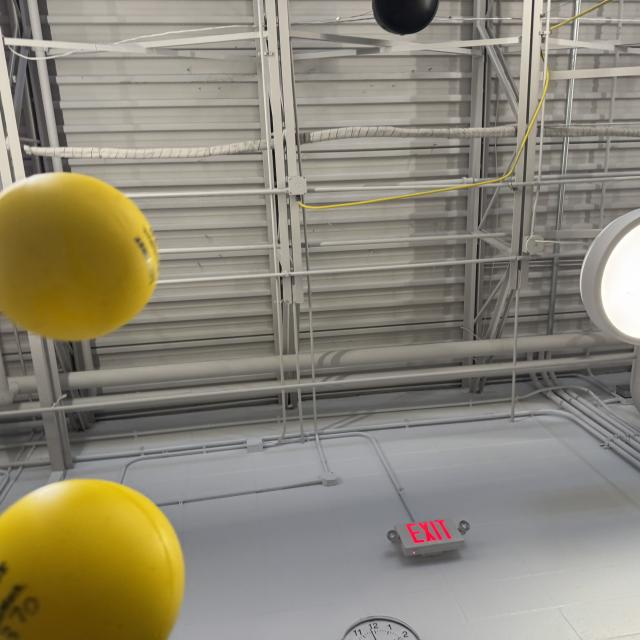Fuel: (0, 477, 186, 640), (0, 171, 160, 341)
